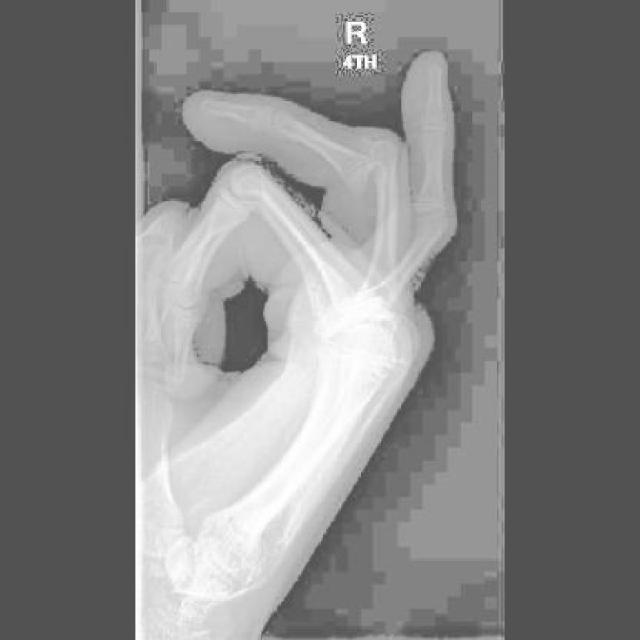Fracture: (342, 129, 393, 191)
